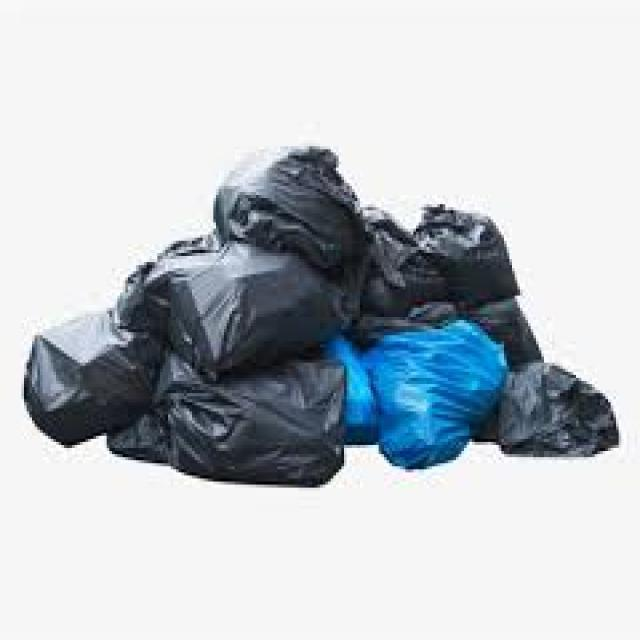garbage: (8, 132, 632, 502)
